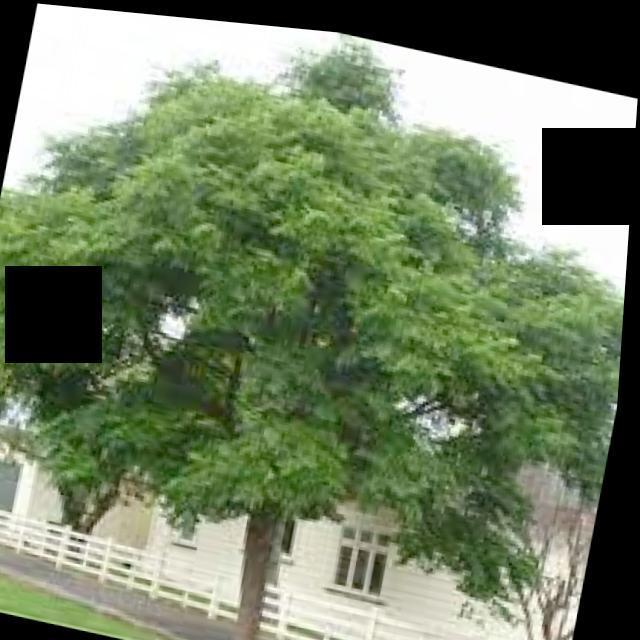tree: (0, 0, 635, 640), (414, 216, 630, 640)
